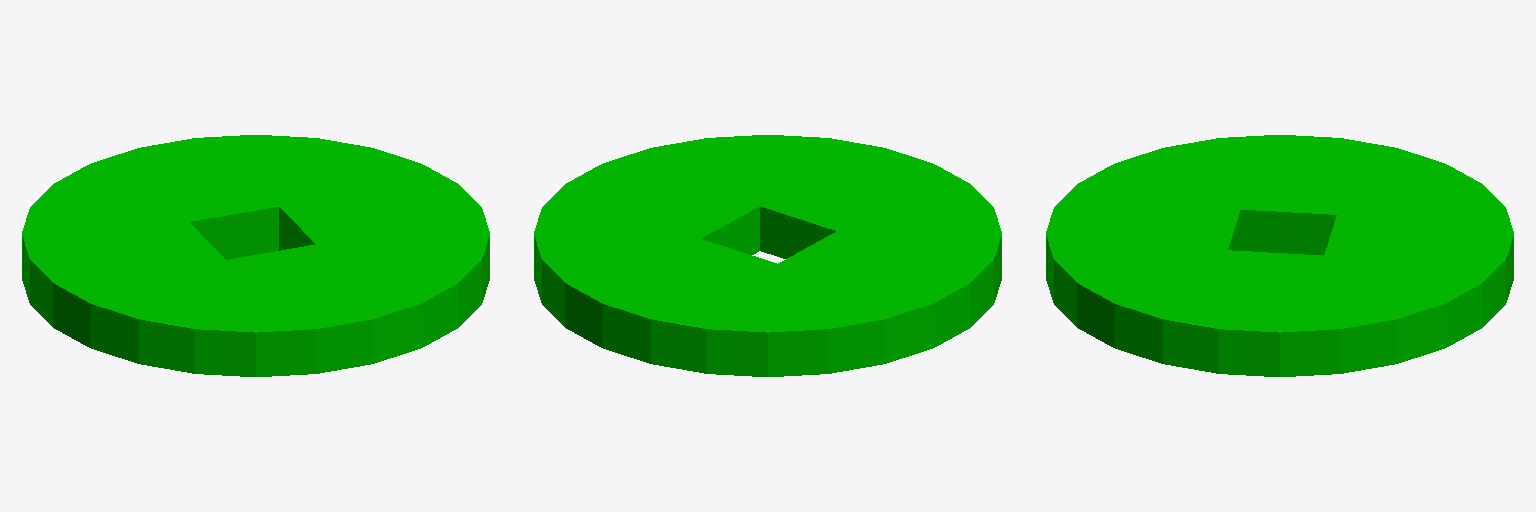
Rendered from ClearCoin.obj.
The picture shows the model from 3 angles: view 1: azimuth 30°, elevation 25°; view 2: azimuth 150°, elevation 25°; view 3: azimuth 270°, elevation 25°; orthographic projection.
Visible parts, largest first — view 1: coin; view 2: coin; view 3: coin.
Part boxes in pixels (x1,y1,x2,y2): coin: (22,135,489,376); coin: (534,135,1001,376); coin: (1046,135,1513,376).
Size of the model in its own units: 8.78 by 0.9269 by 8.78.